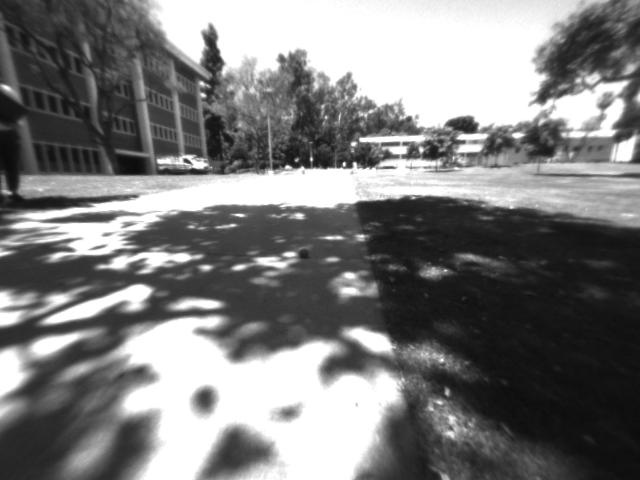dogtoy: (292, 242, 315, 264)
